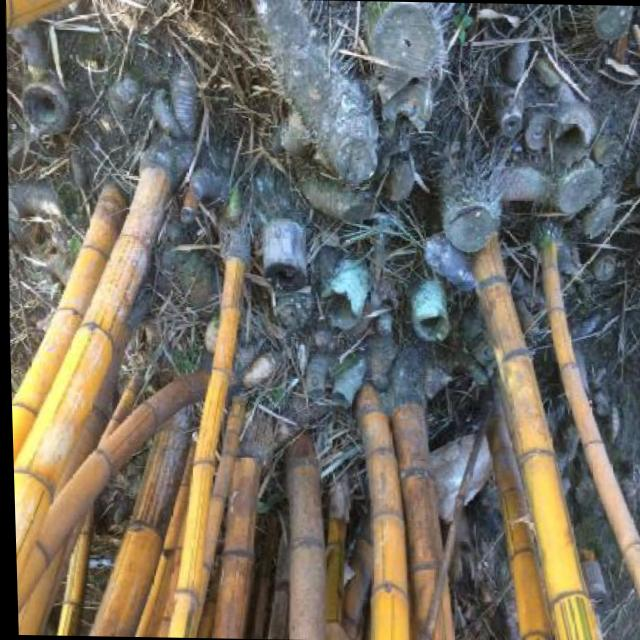plastic: (421, 232, 480, 292)
